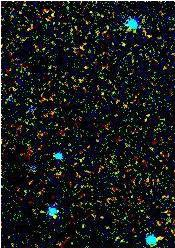star: (36, 202, 66, 232)
